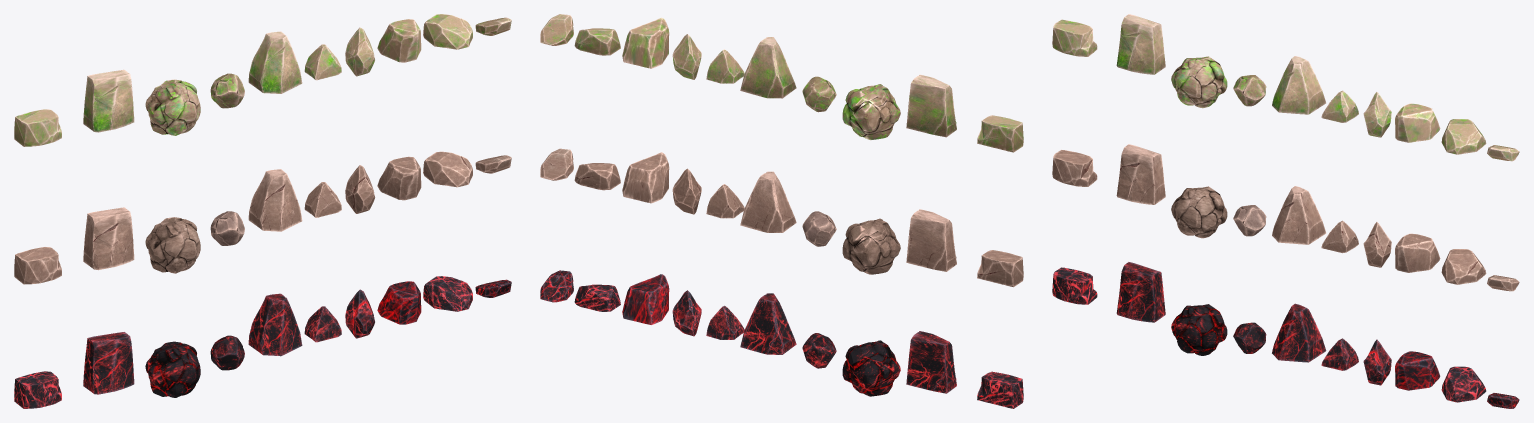
File: stylized_rocks_-_stones.glb
The picture shows the model from 3 angles, left to right: view 1: azimuth 30°, elevation 25°; view 2: azimuth 150°, elevation 25°; view 3: azimuth 330°, elevation 25°; orthographic projection. The views are drawn at different scales.
Parts seen in each view (by area): view 1: stoneK-col_8, stoneKb-col_18, stoneKc-col_28, stoneB2b-col_11, stoneB2-col_1, stoneB2c-col_21, stone6c-col_27, stone6-col_7, stone6b-col_17, stoneGb-col_19, stoneGc-col_29, stone3-col_4 (+18 smaller); view 2: stoneKb-col_18, stoneKc-col_28, stoneK-col_8, stoneB2c-col_21, stoneB2-col_1, stoneB2b-col_11, stone6b-col_17, stone6c-col_27, stone6-col_7, stone3-col_4, stone3b-col_14, stone3c-col_24 (+18 smaller); view 3: stoneK-col_8, stoneKb-col_18, stoneKc-col_28, stoneB2c-col_21, stoneB2-col_1, stoneB2b-col_11, stone6-col_7, stone6b-col_17, stone6c-col_27, stone3-col_4, stone3b-col_14, stone3c-col_24 (+15 smaller).
Boxes of the visible parts, <box> form: stoneK-col_8: <box>83,207,134,270</box>; stoneKb-col_18: <box>83,69,134,132</box>; stoneKc-col_28: <box>83,332,134,394</box>; stoneB2b-col_11: <box>145,79,200,135</box>; stoneB2-col_1: <box>145,217,200,273</box>; stoneB2c-col_21: <box>145,341,200,397</box>; stone6c-col_27: <box>248,293,302,356</box>; stone6-col_7: <box>248,169,302,231</box>; stone6b-col_17: <box>248,31,302,93</box>; stoneGb-col_19: <box>14,109,61,146</box>; stoneGc-col_29: <box>14,371,61,408</box>; stone3-col_4: <box>377,156,421,200</box>; stoneKb-col_18: <box>906,74,956,137</box>; stoneKc-col_28: <box>906,331,956,393</box>; stoneK-col_8: <box>906,209,956,271</box>; stoneB2c-col_21: <box>842,340,900,396</box>; stoneB2-col_1: <box>842,218,900,274</box>; stoneB2b-col_11: <box>842,84,900,140</box>; stone6b-col_17: <box>740,37,796,98</box>; stone6c-col_27: <box>740,293,796,354</box>; stone6-col_7: <box>740,171,796,232</box>; stone3-col_4: <box>622,152,669,203</box>; stone3b-col_14: <box>622,17,669,68</box>; stone3c-col_24: <box>622,274,669,324</box>; stoneK-col_8: <box>1116,144,1165,204</box>; stoneKb-col_18: <box>1116,14,1165,74</box>; stoneKc-col_28: <box>1116,262,1165,322</box>; stoneB2c-col_21: <box>1171,304,1227,355</box>; stoneB2-col_1: <box>1171,186,1227,238</box>; stoneB2b-col_11: <box>1171,56,1227,108</box>; stone6-col_7: <box>1272,186,1325,244</box>; stone6b-col_17: <box>1272,56,1325,114</box>; stone6c-col_27: <box>1272,303,1326,362</box>; stone3-col_4: <box>1395,233,1440,272</box>; stone3b-col_14: <box>1395,103,1440,142</box>; stone3c-col_24: <box>1395,351,1440,390</box>.
Bounding box in the file's own units: 12.86 × 8.44 × 1.3.
3 materials, 3 textured.
